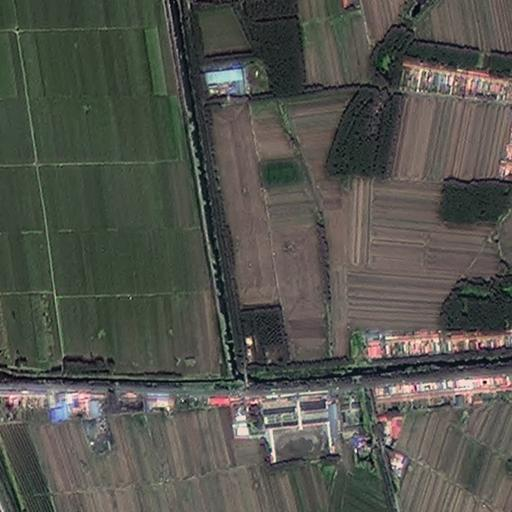school: (259, 391, 333, 466)
